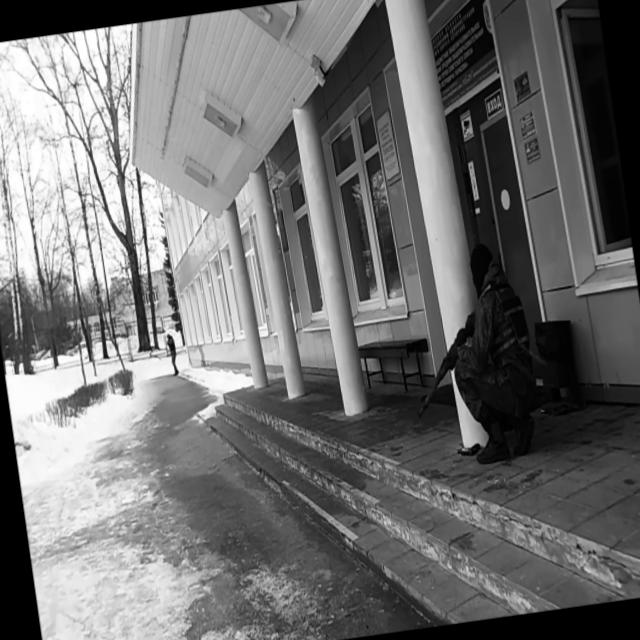gun: (404, 310, 491, 422)
person: (164, 330, 182, 379)
person with a gun: (394, 237, 548, 473)
